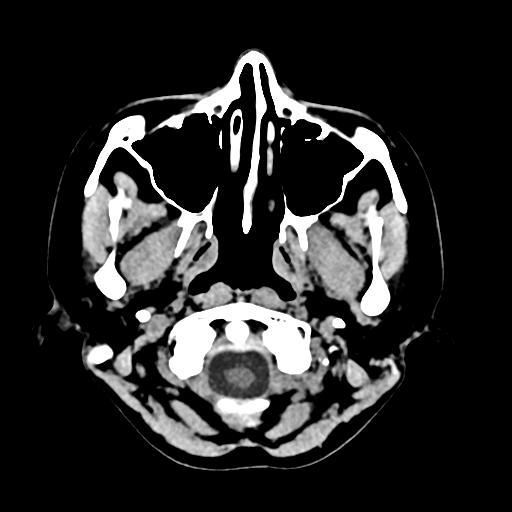Normal_Brain: (22, 29, 492, 489)
